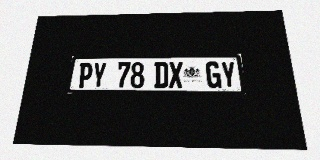7: (116, 62, 131, 88)
8: (130, 62, 145, 88)
D: (154, 62, 168, 88)
G: (206, 61, 222, 88)
P: (77, 62, 93, 88)
X: (169, 62, 183, 88)
Y: (220, 61, 237, 88), (91, 62, 107, 88)
